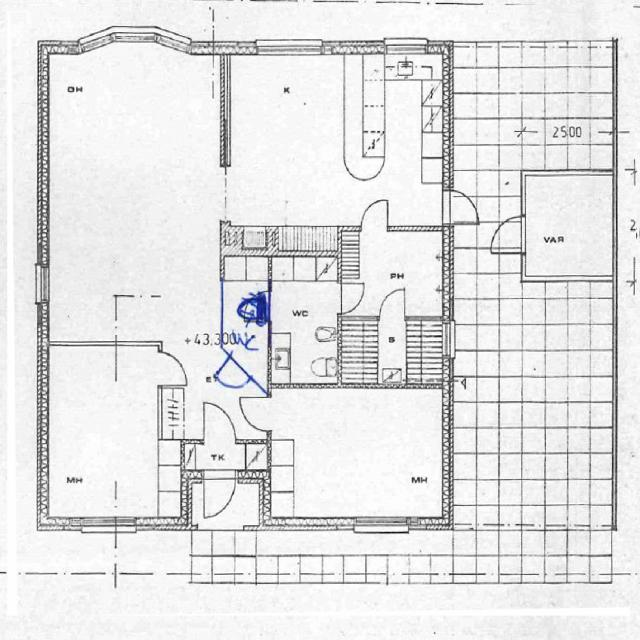door: (204, 470, 236, 520), (204, 401, 236, 444), (490, 216, 526, 253), (443, 190, 482, 224), (239, 398, 271, 431), (158, 352, 189, 384), (208, 316, 237, 349), (361, 196, 387, 232), (337, 283, 367, 314), (380, 287, 404, 321)
